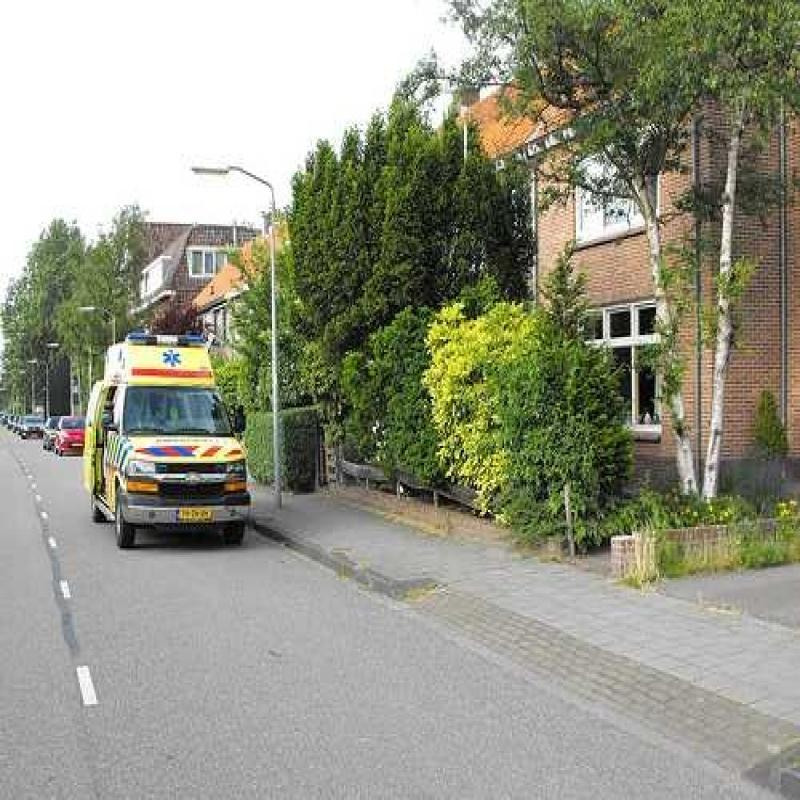AmbulanceSiren: (123, 320, 217, 358)
